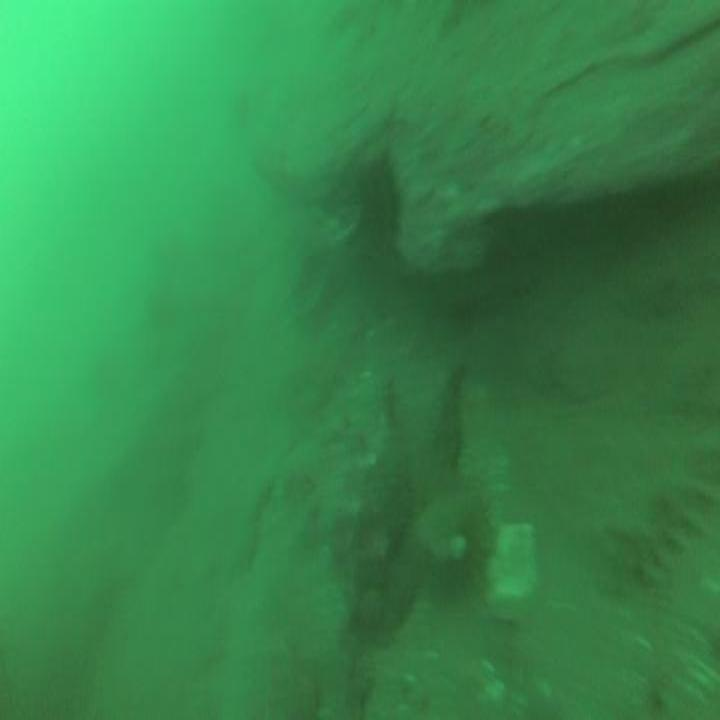echinus: (359, 148, 402, 260)
holothurian: (594, 427, 720, 597)
